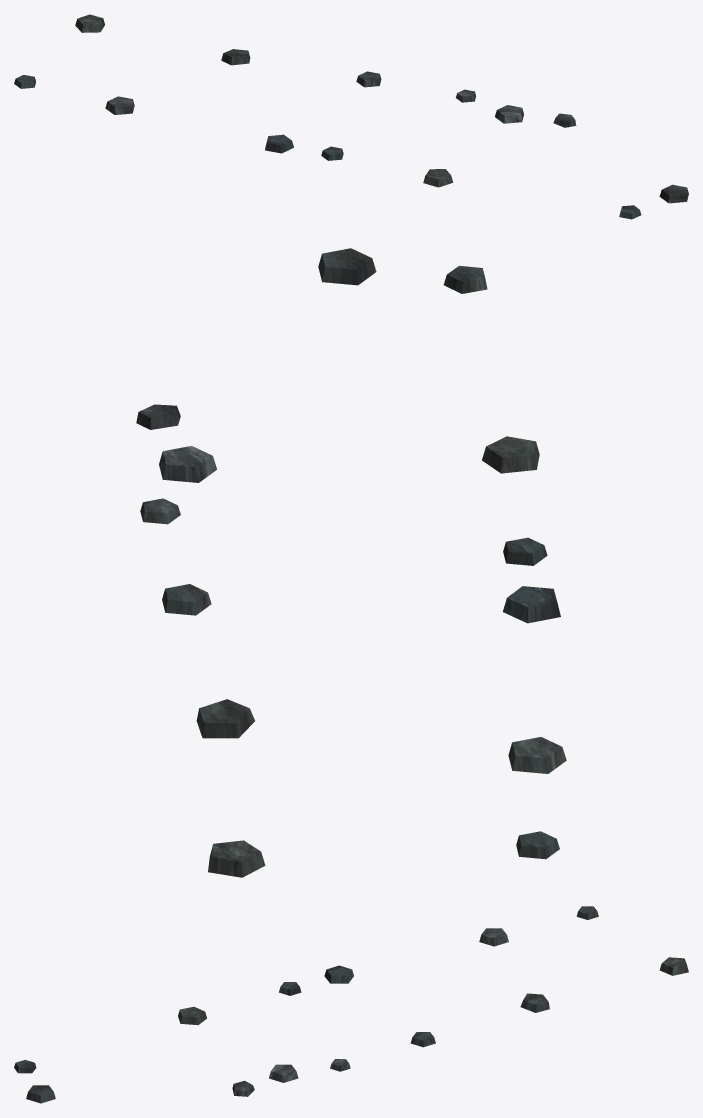
Rendered from object_graveyard_footpath.fbx.
3 views of the same model, one above another, from view 1: azimuth 30°, elevation 25°; view 2: azimuth 150°, elevation 25°; view 3: azimuth 270°, elevation 25° (orthographic). The views are drawn at different scales.
Parts seen in each view (by area): view 1: obj0.071; view 2: obj0.071; view 3: obj0.071.
Part boxes in pixels (bbox=[...]): obj0.071: bbox=[14, 14, 688, 219]; obj0.071: bbox=[136, 248, 566, 877]; obj0.071: bbox=[14, 906, 688, 1103].
Bounding box in the file's own units: 8.49 × 0.2029 × 12.7.
